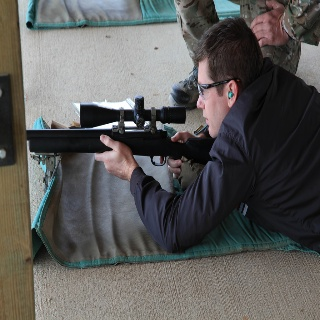rifle: (26, 95, 217, 166)
